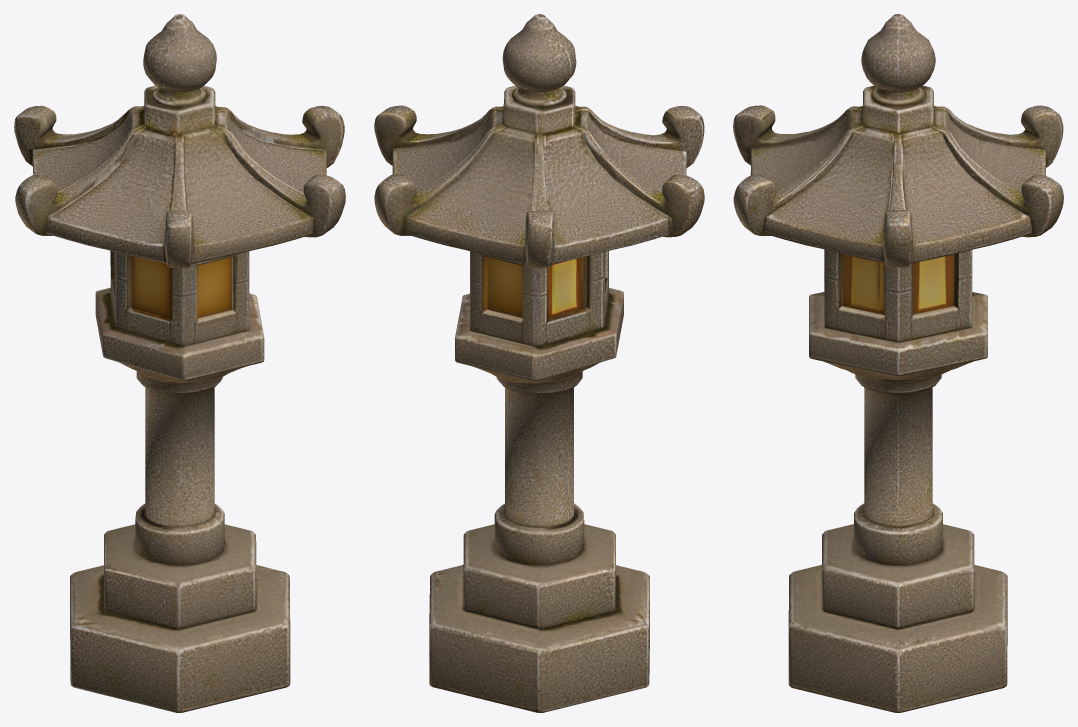
The model's file is stone_lantern.glb.
The picture shows the model from 3 angles, left to right: view 1: azimuth 30°, elevation 25°; view 2: azimuth 150°, elevation 25°; view 3: azimuth 270°, elevation 25°; orthographic projection.
Visible parts, largest first — view 1: tripo_node_019e31af-5de5-4a07-b91f-2b8a4ee68002; view 2: tripo_node_019e31af-5de5-4a07-b91f-2b8a4ee68002; view 3: tripo_node_019e31af-5de5-4a07-b91f-2b8a4ee68002.
Part boxes in pixels (<box>): tripo_node_019e31af-5de5-4a07-b91f-2b8a4ee68002: <box>14,14,345,712</box>; tripo_node_019e31af-5de5-4a07-b91f-2b8a4ee68002: <box>374,14,704,712</box>; tripo_node_019e31af-5de5-4a07-b91f-2b8a4ee68002: <box>733,14,1063,712</box>.
Size of the model in its own units: 0.519 by 0.9995 by 0.4644.
Materials: 1 (1 with a texture image).
